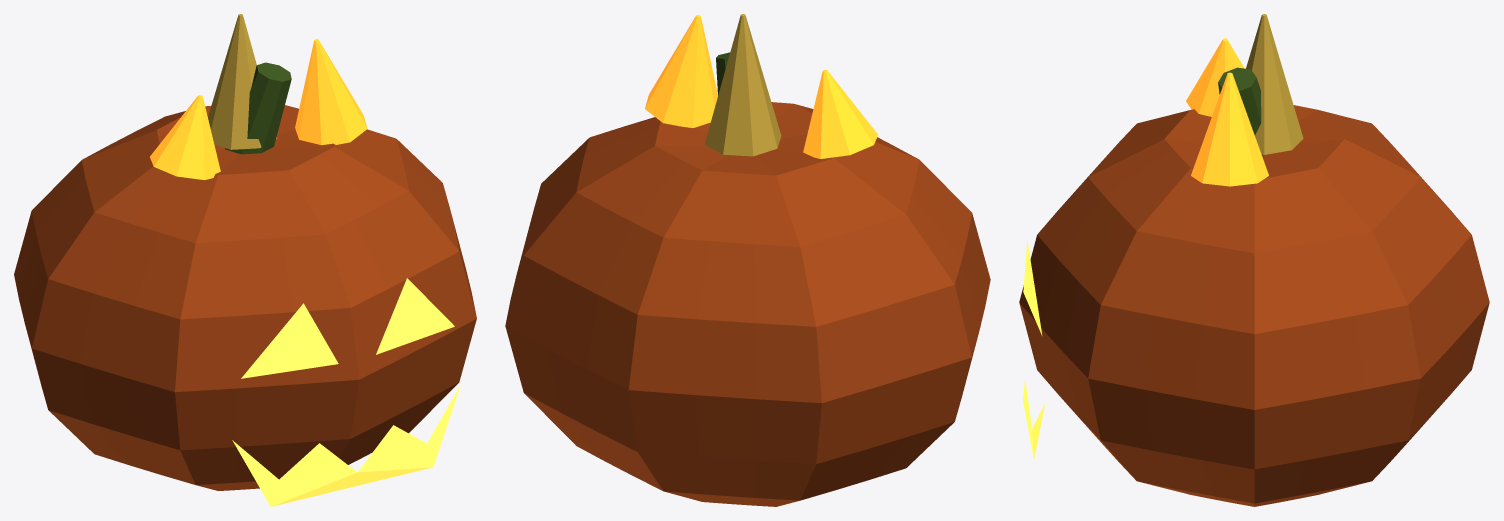
File: pumpkinking.glb
3 views of the same model, side by side, from view 1: azimuth 30°, elevation 25°; view 2: azimuth 150°, elevation 25°; view 3: azimuth 270°, elevation 25° (orthographic). The views are drawn at different scales.
Visible parts, largest first — view 1: Pumpkin King.002; view 2: Pumpkin King.002; view 3: Pumpkin King.002.
Boxes of the visible parts, x1=… form: Pumpkin King.002: x1=14, y1=14, x2=476, y2=506; Pumpkin King.002: x1=505, y1=14, x2=990, y2=506; Pumpkin King.002: x1=1019, y1=14, x2=1489, y2=506.
Bounding box in the file's own units: 0.6427 × 0.6457 × 0.5933.
